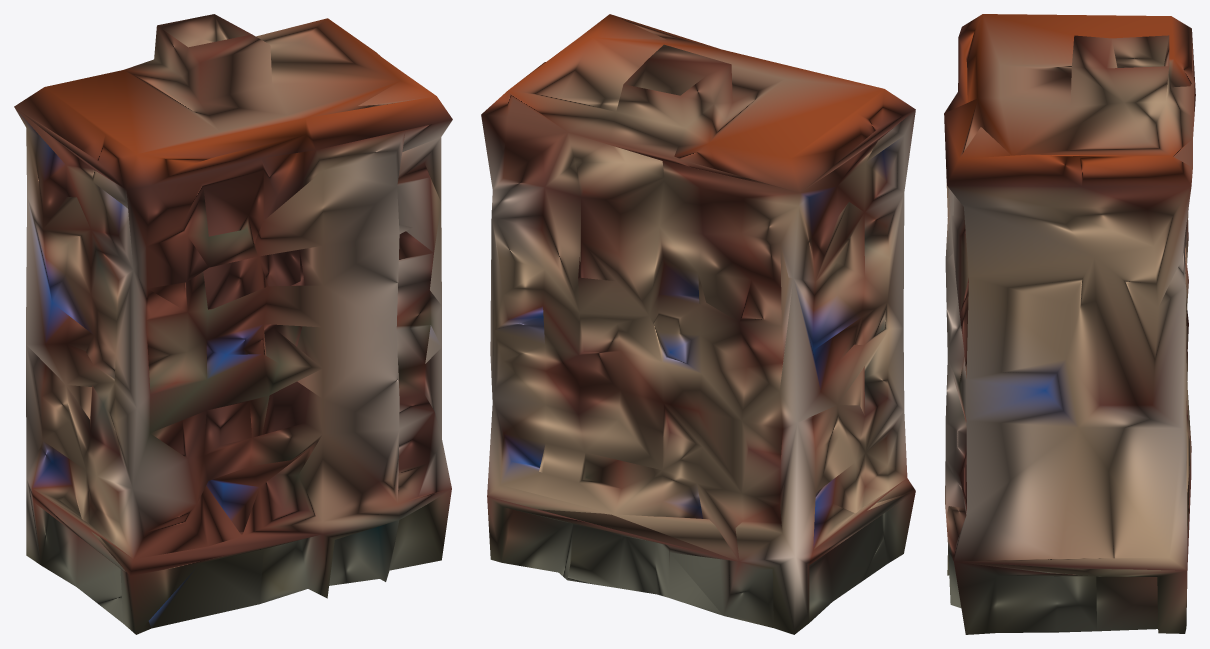
File: gen3d-apartment-block-lod1.glb
The picture shows the model from 3 angles, left to right: view 1: azimuth 30°, elevation 25°; view 2: azimuth 150°, elevation 25°; view 3: azimuth 270°, elevation 25°; orthographic projection.
Parts seen in each view (by area): view 1: part_0; view 2: part_0; view 3: part_0.
Boxes of the visible parts, bbox=[...] form: part_0: bbox=[14, 14, 452, 634]; part_0: bbox=[481, 14, 915, 634]; part_0: bbox=[944, 14, 1195, 634].
Size of the model in its own units: 0.6699 by 0.9982 by 0.446.
